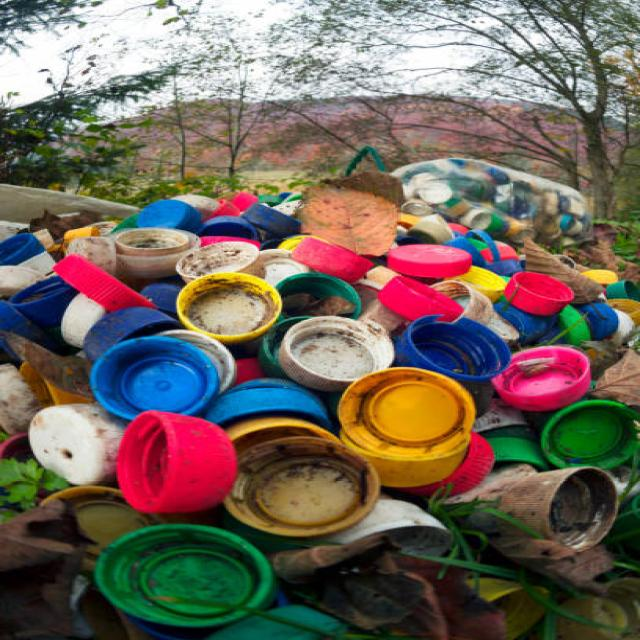plastic: (115, 246, 572, 507)
